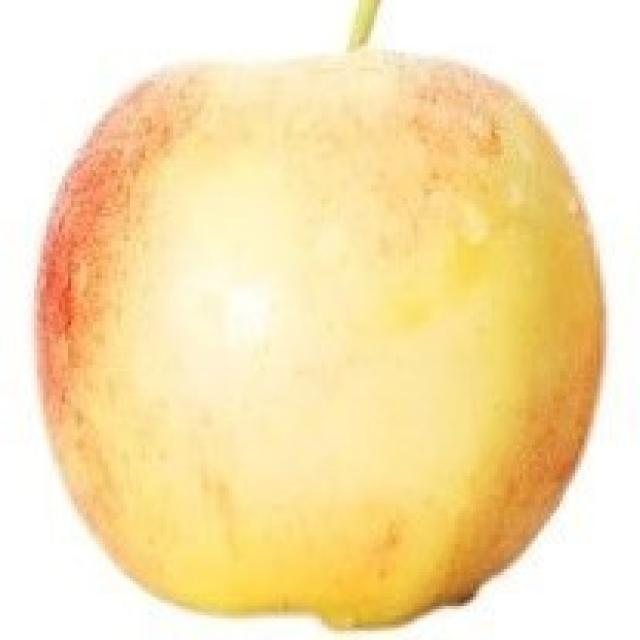75-_ripeness: (40, 46, 606, 625)
